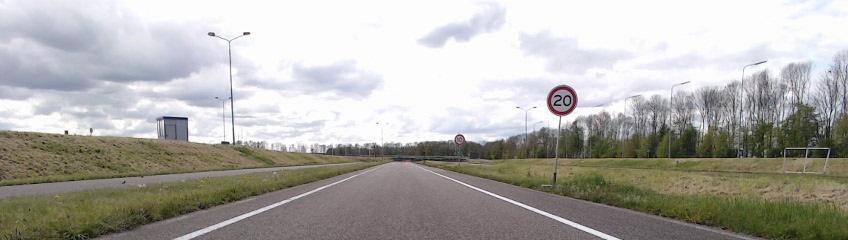Speed-limit-10km-h-: (455, 134, 465, 145)
Speed-limit-20km-h-: (547, 85, 577, 116)
